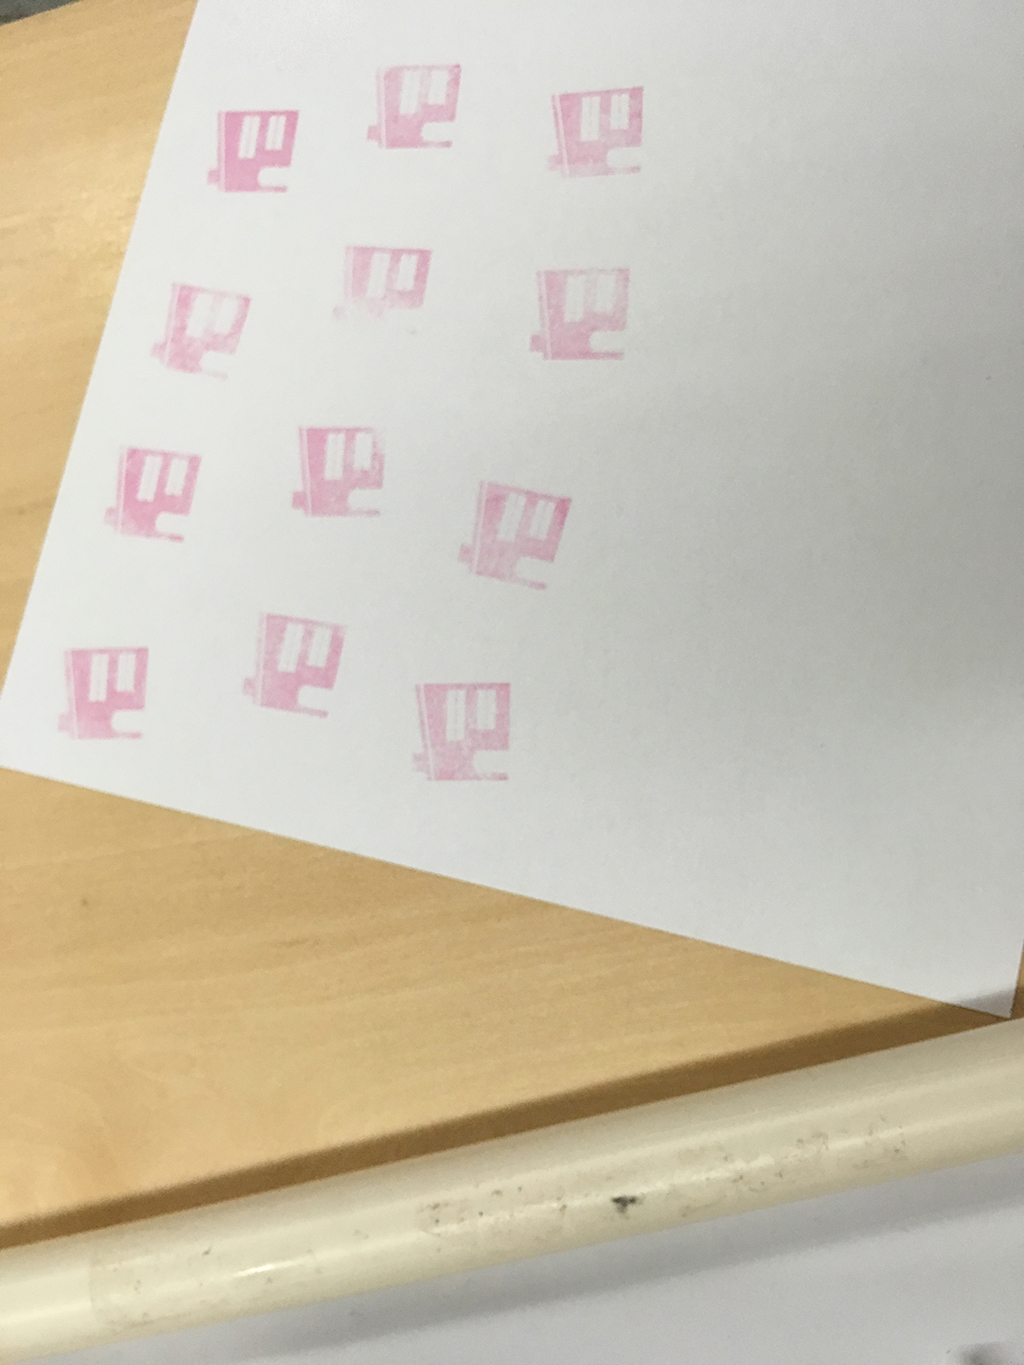house: (127, 267, 268, 400), (440, 470, 579, 597), (534, 66, 663, 196), (228, 596, 355, 728), (400, 663, 518, 800), (278, 409, 397, 532), (318, 233, 440, 351), (94, 435, 208, 558), (513, 252, 637, 366), (48, 638, 173, 751), (197, 93, 309, 211), (359, 58, 473, 159)
